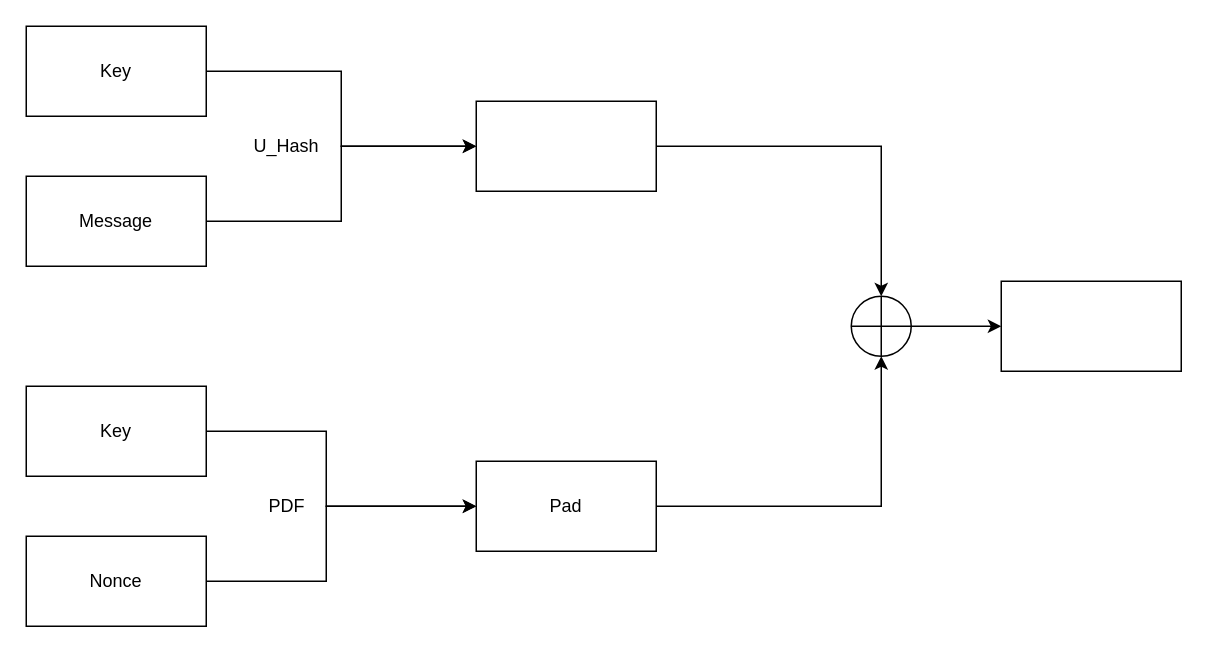
This 1208x653 diagram has some shape labels left out. Here are the shapes that lost their labels. From the top down, the centre of each, then its label:
the point at 565,145: Hashed Message
the point at 1090,325: Tag
